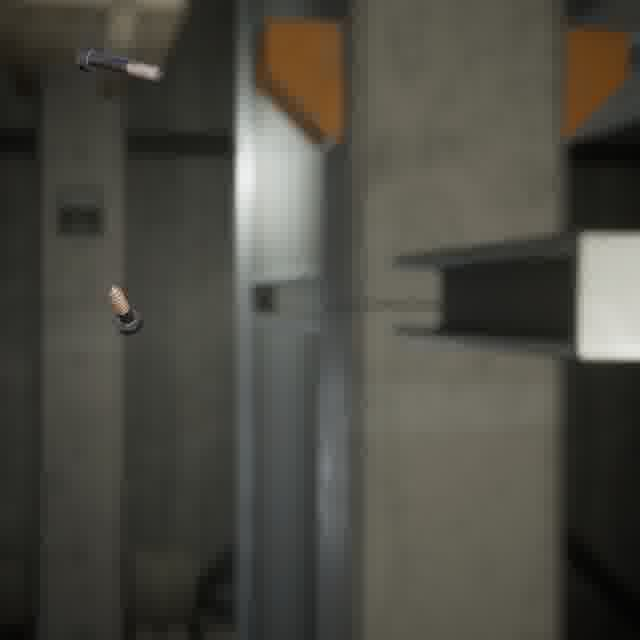bolt: (71, 38, 169, 86), (102, 279, 148, 338)
